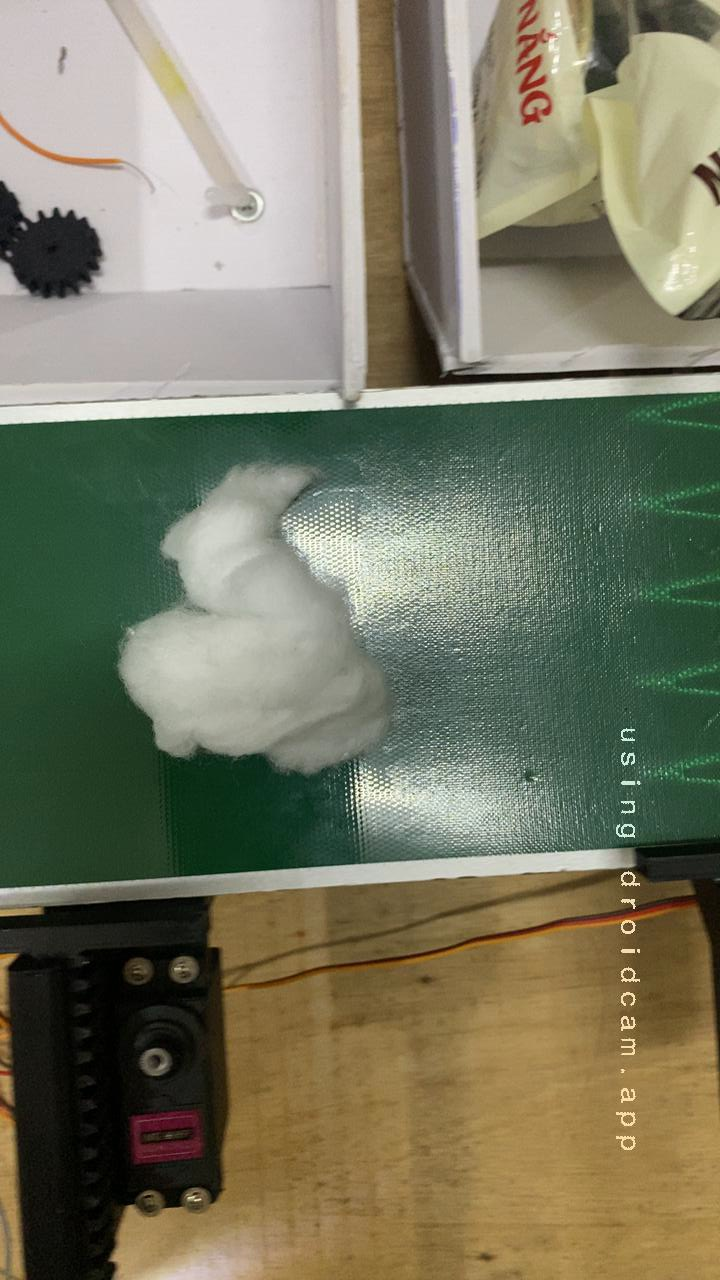cotton: (85, 444, 417, 804)
